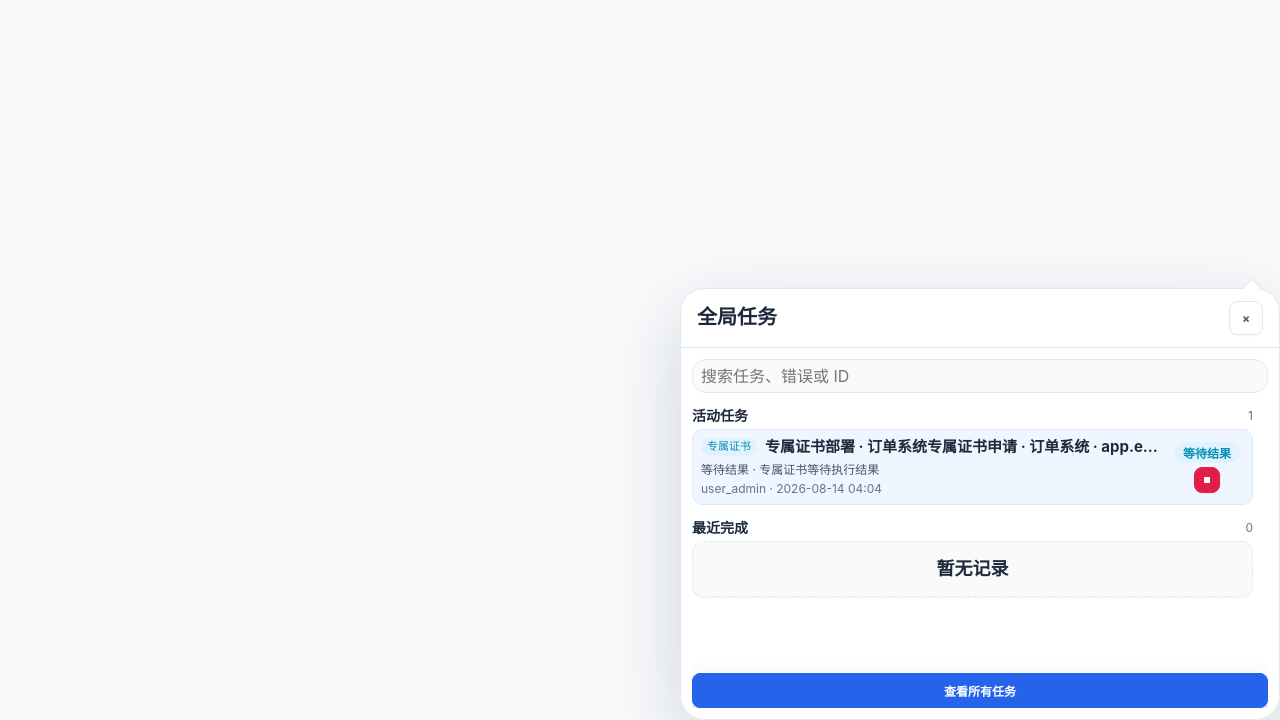
Test: TaskDrawer ACME 任务展示 › 专属证书部署详情展示部署说明和后续子任务
This screenshot has width=1280, height=720.
(page scrolled)
Check: the text with class "task-drawer__item-type" reads "专属证书", box 707,439 -> 751,453
Click the button with class "task-drawer__item-open" at x=729, y=447, box 693,430 -> 1166,504
(page scrolled)
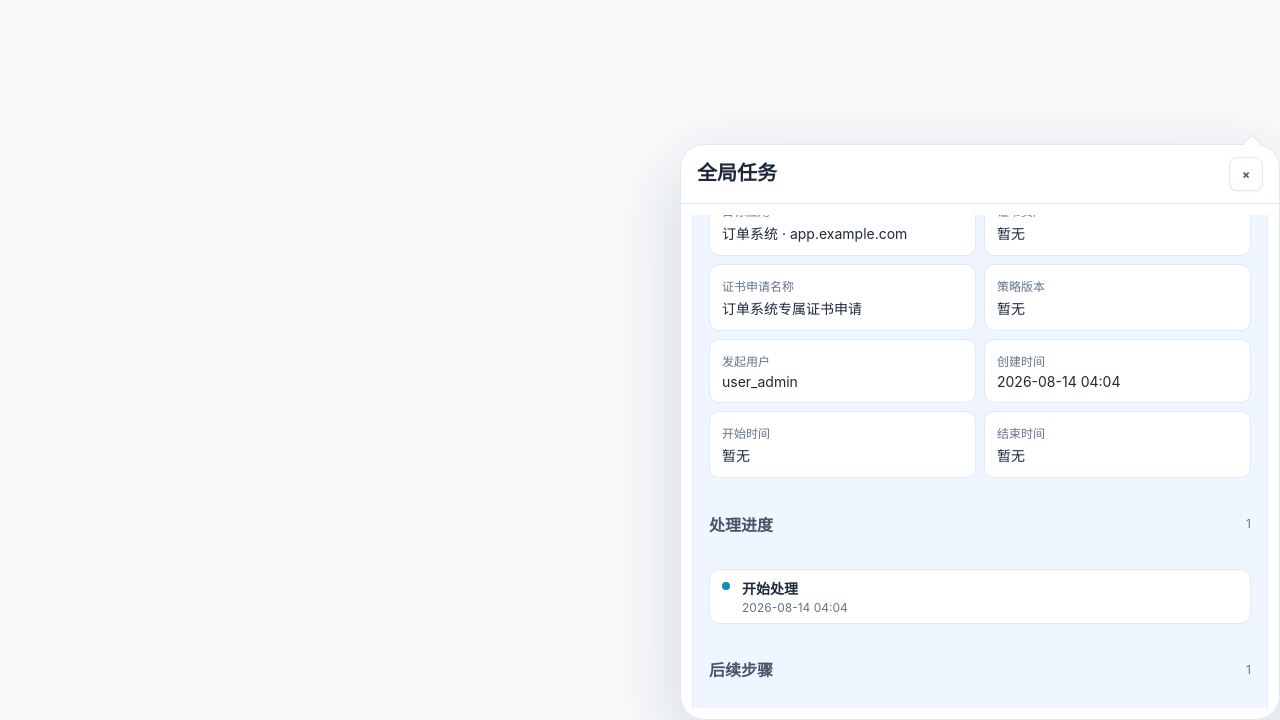
Check: the element with class "task-drawer__dedicated-detail" shows "订单系统专属证书申请", box 722,300 -> 862,317
Check: the element with class "task-drawer__dedicated-detail" shows "后续步骤", box 709,660 -> 773,680
